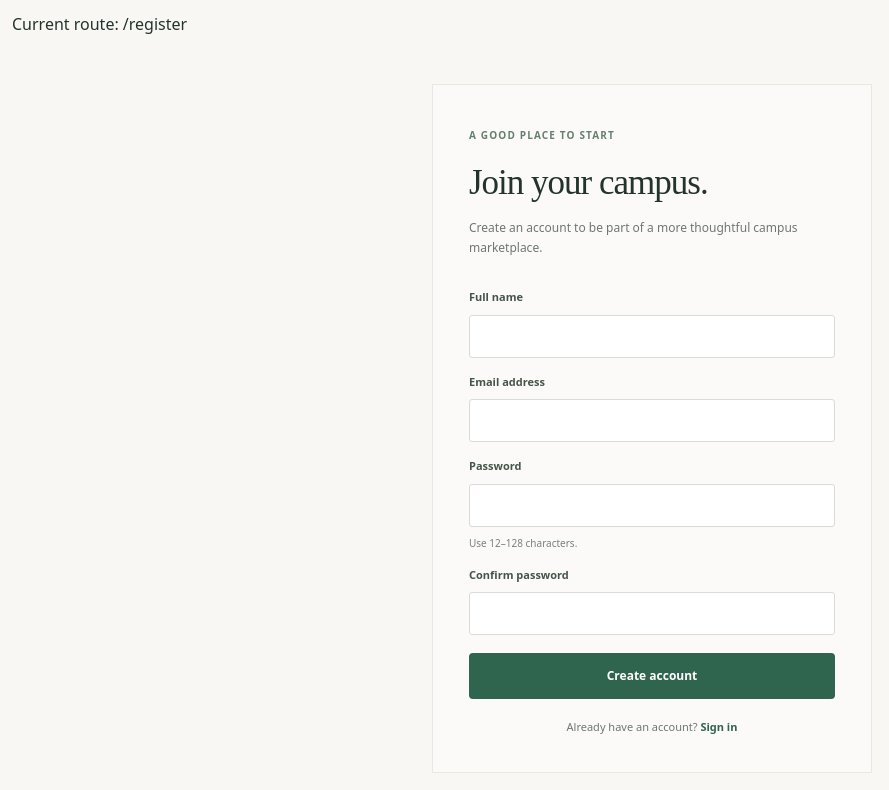
Test: registration › registers successfully and directs the student to sign in
The image size is (889, 790).
Type "Campus Student" into the field labelled "Full name".
click(652, 336); type("Campus Student")  # box x1=469 y1=315 x2=835 y2=358
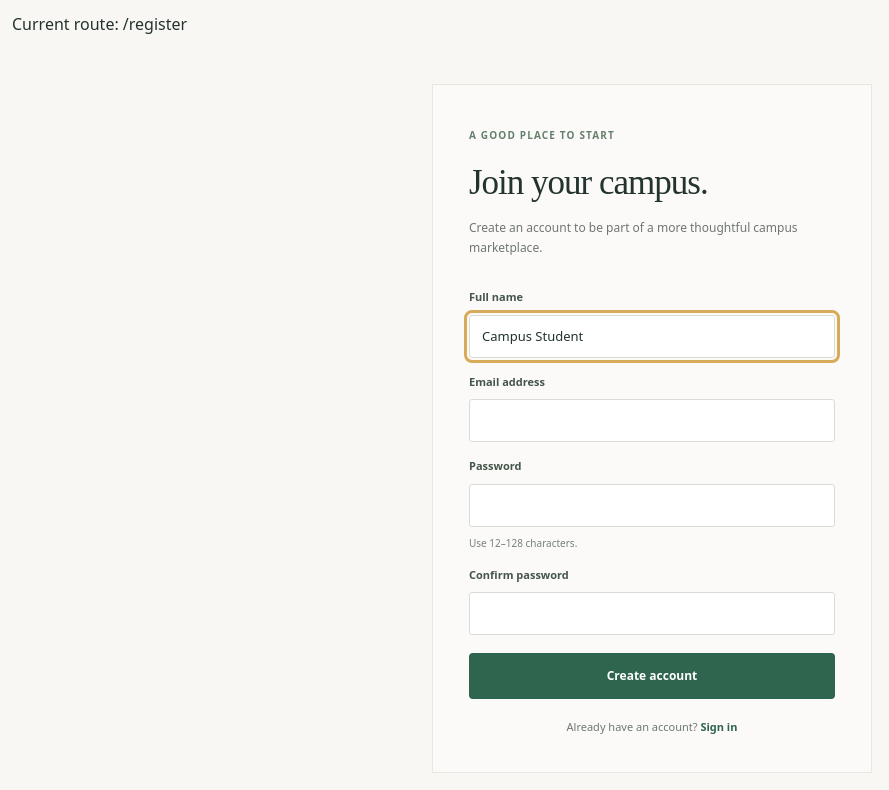
Type "student@example.edu" into the field labelled "Email address".
click(652, 421); type("student@example.edu")  # box x1=469 y1=399 x2=835 y2=442
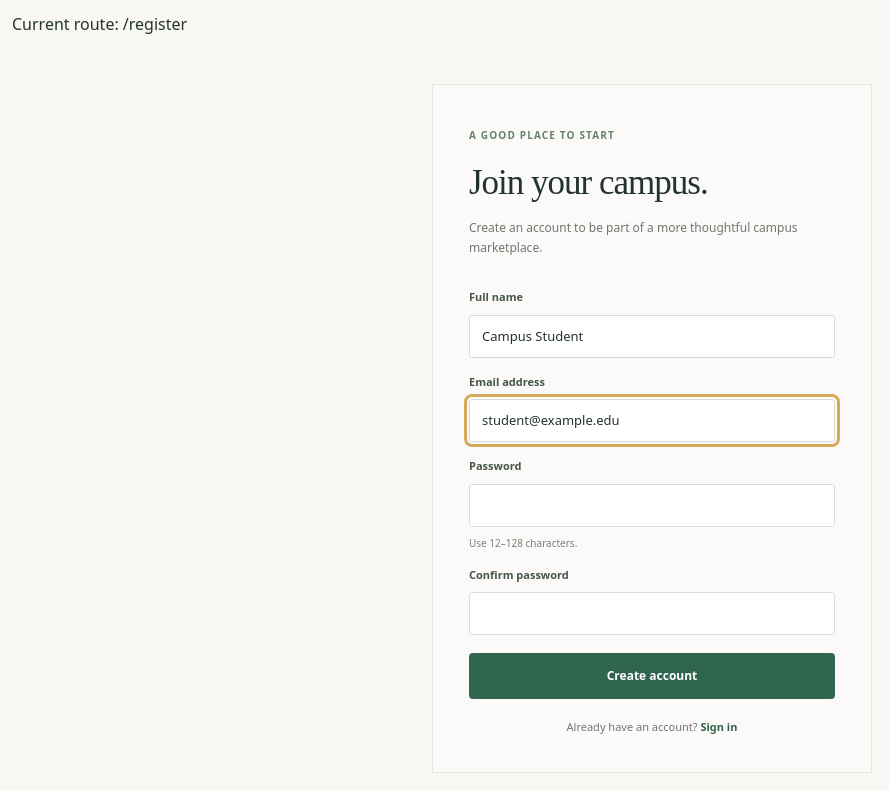
Type "secure-password-123" into the password field labelled "Password".
click(652, 505); type("secure-password-123")  # box x1=469 y1=484 x2=835 y2=527
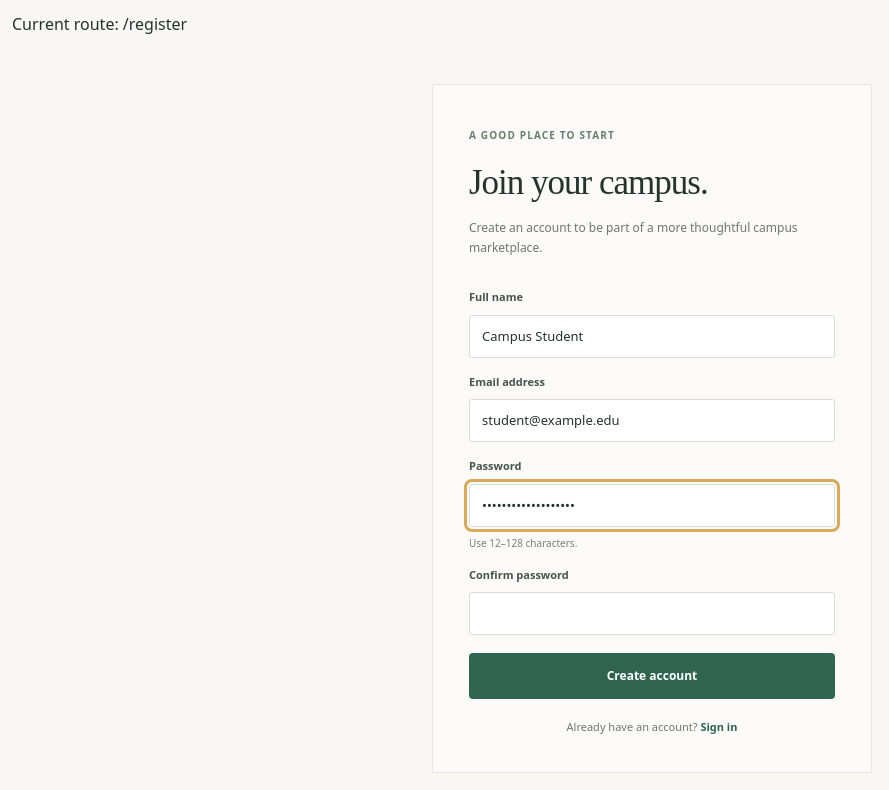
Type "secure-password-123" into the password field labelled "Confirm password".
click(652, 614); type("secure-password-123")  # box x1=469 y1=592 x2=835 y2=635
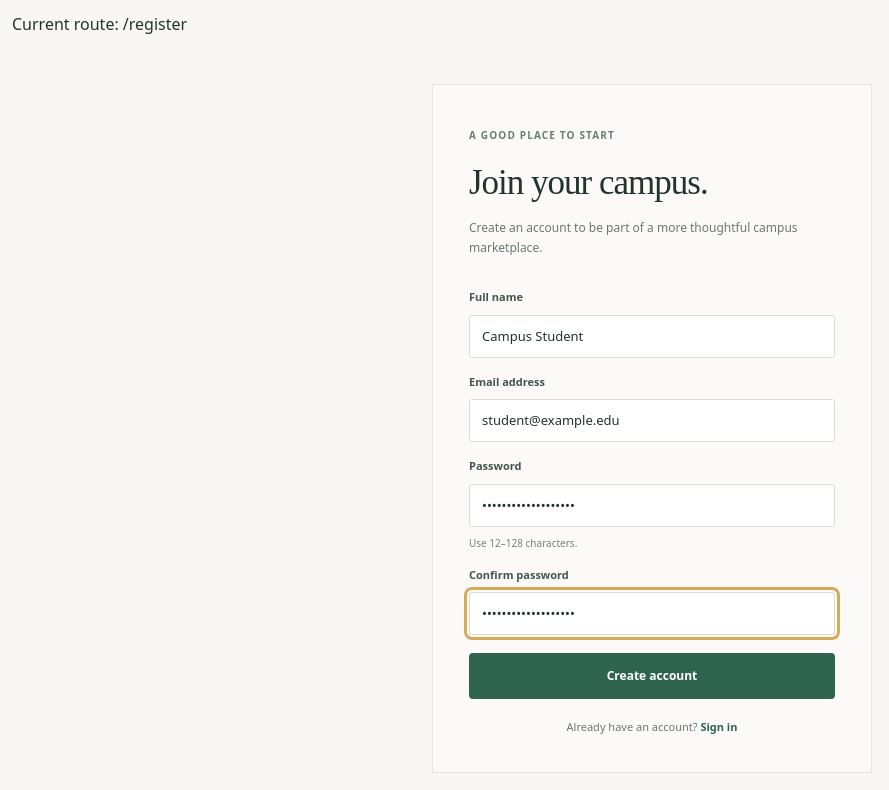
Click the button "Create account".
click(652, 676)  # box x1=469 y1=653 x2=835 y2=699
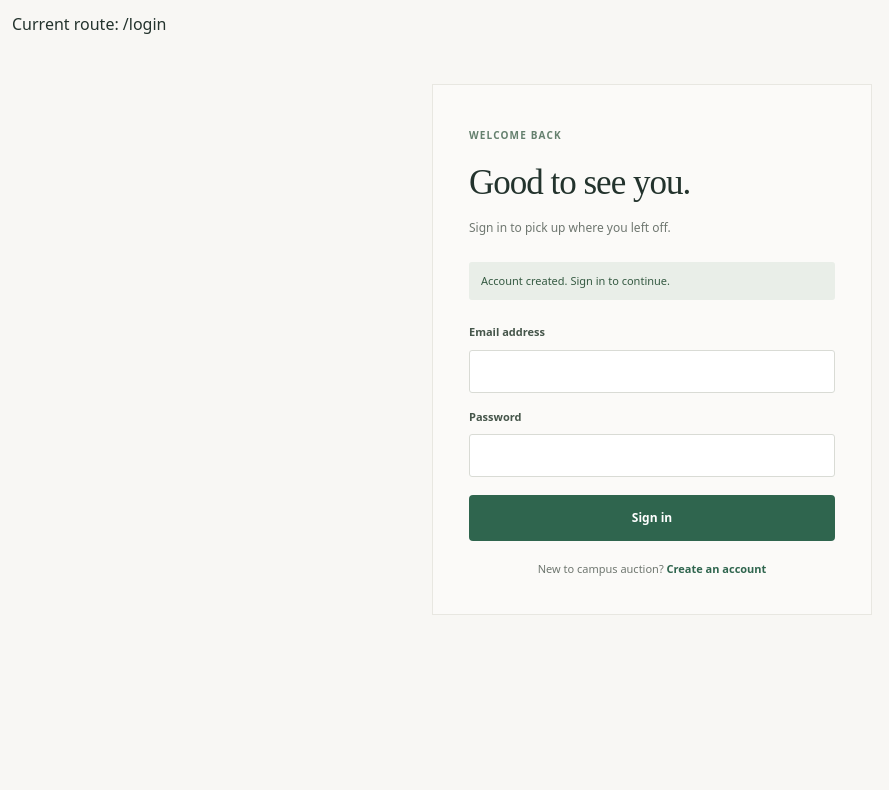
Result: the text "Account created. Sign in to continue." is shown at x1=469 y1=262 x2=835 y2=300
